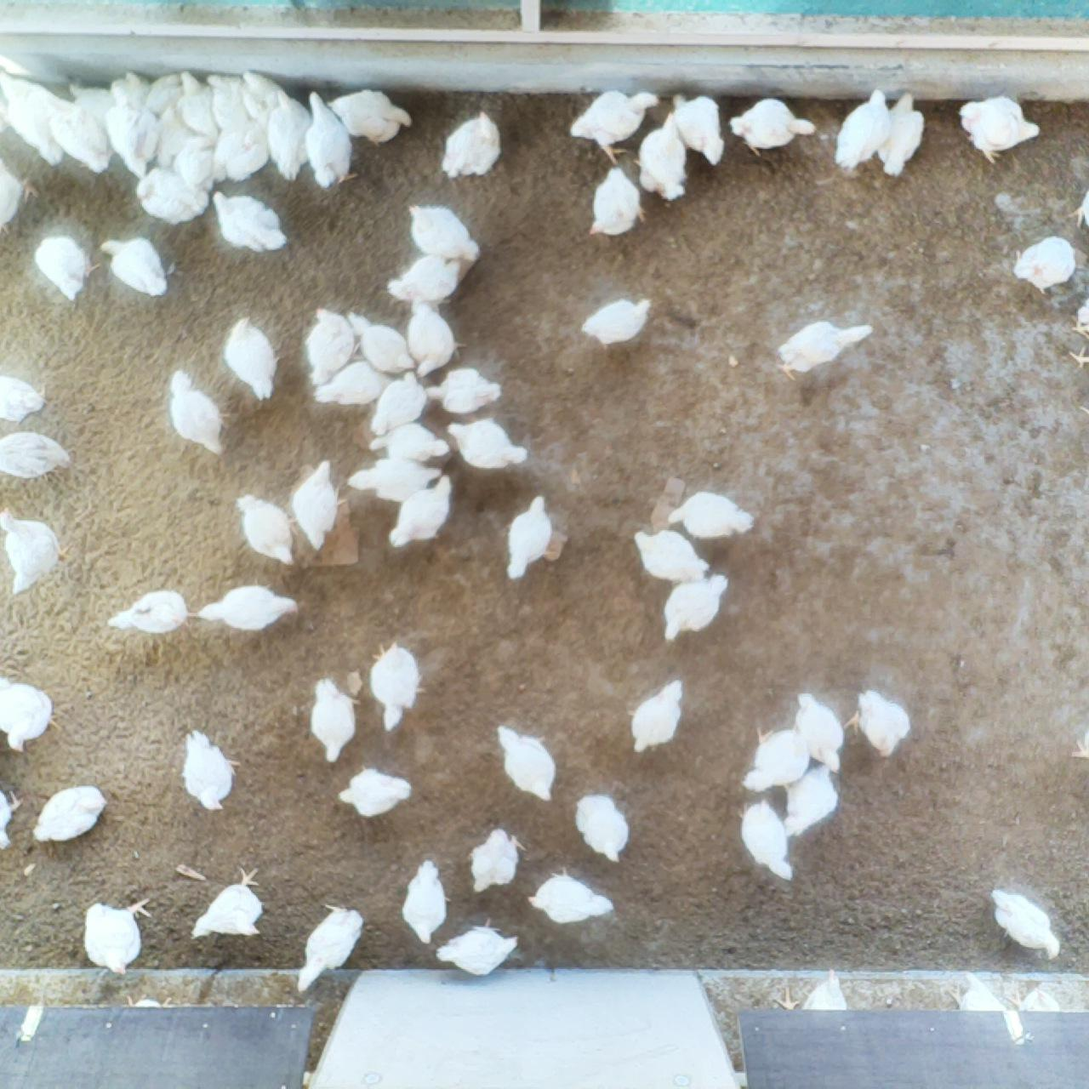chicken: (568, 88, 661, 165), (0, 64, 67, 165), (294, 901, 366, 993), (0, 503, 69, 596), (955, 93, 1043, 165), (773, 319, 875, 381), (365, 639, 428, 734), (187, 580, 302, 632), (177, 726, 242, 816), (190, 866, 267, 941), (730, 796, 796, 883), (728, 95, 818, 158), (526, 865, 615, 928), (102, 78, 160, 174), (988, 887, 1063, 961), (305, 89, 359, 190), (289, 459, 346, 554), (840, 686, 914, 759), (170, 366, 228, 459), (432, 916, 519, 978), (84, 898, 152, 976), (0, 671, 63, 755), (45, 92, 111, 172), (740, 719, 811, 793), (636, 108, 691, 201), (222, 314, 280, 402), (494, 722, 557, 802), (404, 299, 465, 381), (211, 190, 289, 254), (265, 87, 315, 186), (345, 453, 446, 502), (388, 471, 452, 548), (308, 676, 364, 763), (30, 780, 107, 843), (328, 88, 413, 145), (233, 491, 295, 569), (661, 573, 730, 643), (834, 88, 890, 173), (664, 490, 757, 541), (400, 857, 455, 943), (98, 235, 170, 300), (35, 235, 103, 303), (305, 306, 361, 388), (585, 167, 647, 240), (409, 201, 483, 262), (782, 757, 837, 839), (666, 91, 726, 166), (133, 166, 209, 225), (875, 91, 925, 180), (630, 677, 687, 755), (346, 312, 416, 375), (631, 527, 709, 583), (441, 109, 504, 178), (793, 689, 844, 774), (572, 791, 629, 866), (504, 492, 553, 579), (447, 419, 530, 470), (384, 250, 460, 305), (0, 426, 74, 482), (313, 362, 403, 408), (366, 370, 428, 436), (468, 827, 527, 896), (422, 366, 505, 415), (105, 587, 188, 636), (580, 294, 652, 350), (338, 766, 410, 822), (1015, 232, 1078, 295), (178, 70, 228, 141), (210, 126, 270, 184), (151, 98, 200, 169), (370, 422, 450, 465), (237, 68, 292, 130), (172, 131, 220, 195), (64, 81, 116, 138), (0, 160, 39, 235), (205, 75, 251, 131), (125, 992, 177, 1039), (0, 371, 44, 425), (121, 68, 161, 123), (145, 70, 187, 116), (0, 785, 22, 856), (1069, 294, 1089, 370), (1070, 182, 1089, 232)
